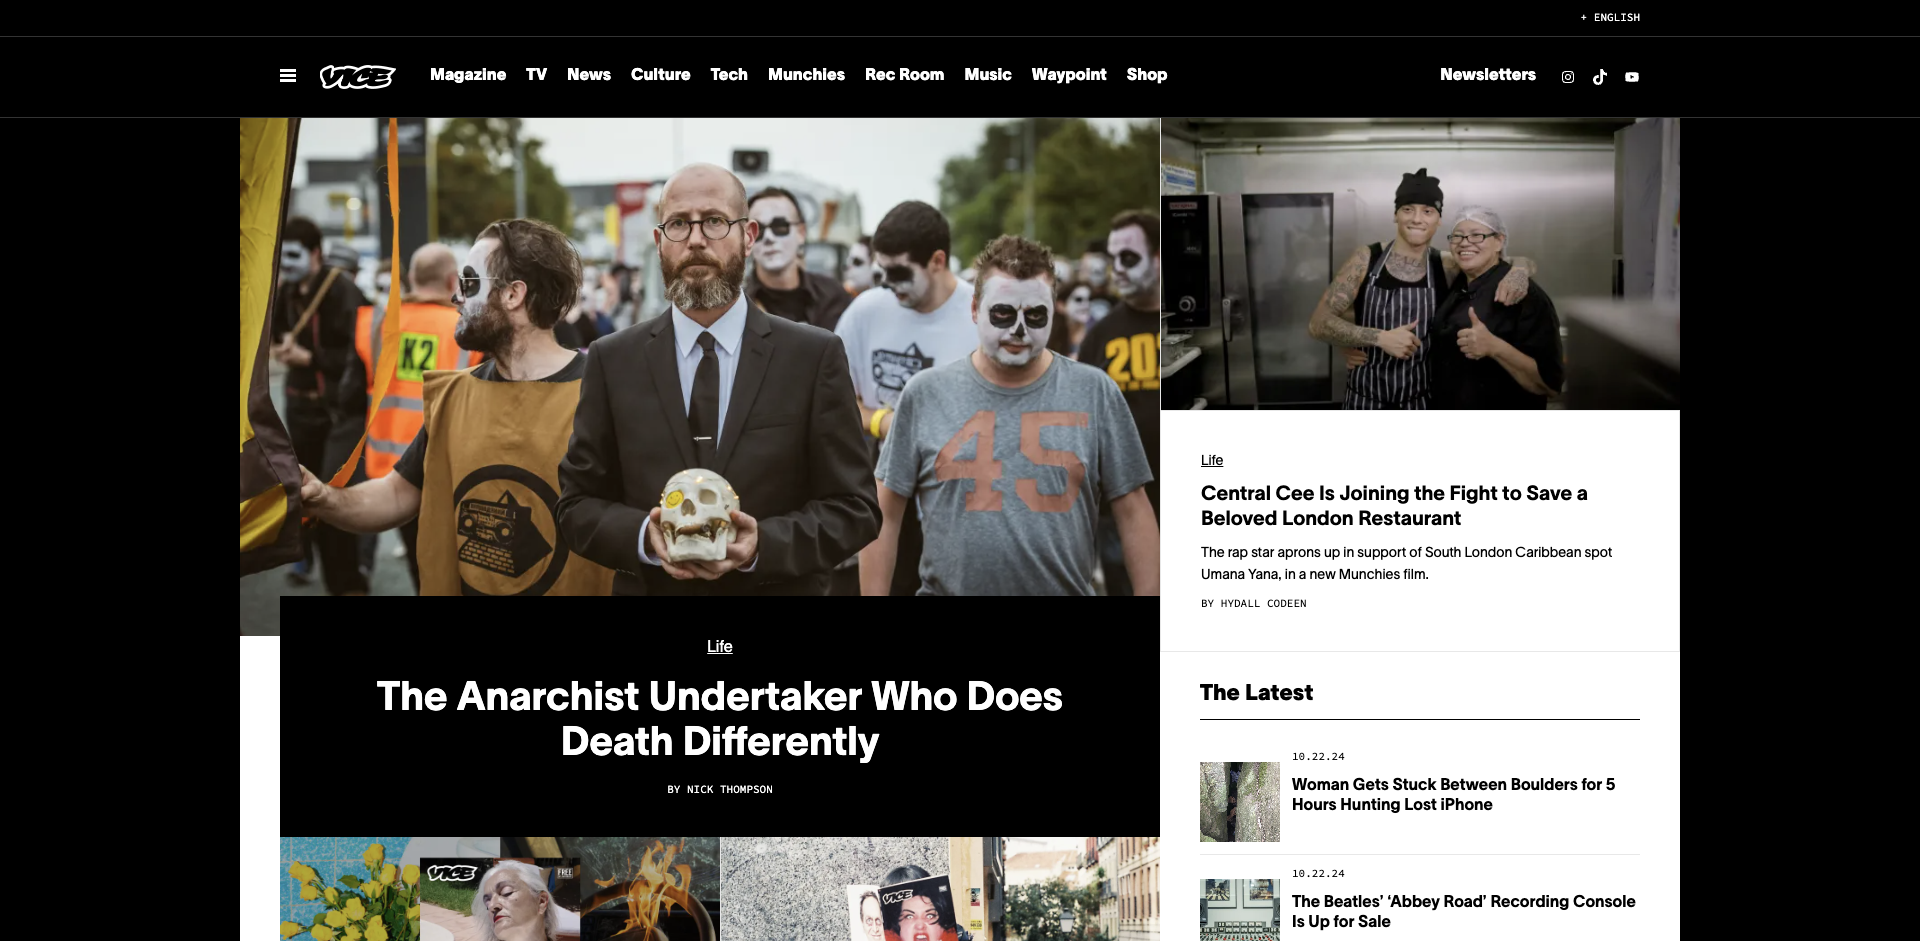button: (264, 53, 312, 100), (1581, 0, 1640, 36)
icon: (1560, 69, 1640, 85)
link: (240, 118, 1160, 636), (1161, 118, 1680, 410), (320, 676, 1120, 767), (280, 837, 720, 941), (721, 837, 1160, 941), (1201, 483, 1640, 533), (1292, 776, 1640, 816), (1292, 892, 1640, 932), (0, 202, 230, 254), (0, 304, 230, 355), (0, 406, 230, 457), (0, 457, 230, 508), (0, 559, 230, 610), (0, 610, 230, 662), (0, 712, 230, 763), (0, 763, 230, 815), (0, 865, 230, 916), (0, 254, 230, 304), (0, 355, 230, 406), (0, 508, 230, 559), (0, 662, 230, 712), (0, 815, 230, 865), (1200, 762, 1280, 842), (0, 916, 230, 941), (1200, 879, 1280, 941), (855, 59, 954, 93), (420, 59, 517, 93), (758, 59, 855, 93), (1022, 59, 1117, 93), (621, 59, 700, 93), (954, 59, 1022, 93), (557, 59, 621, 93), (1117, 59, 1178, 93), (700, 59, 758, 93), (320, 65, 396, 89), (517, 59, 557, 93), (1440, 70, 1536, 83), (687, 782, 773, 795), (1221, 597, 1307, 610), (708, 641, 732, 654), (1201, 455, 1223, 468), (1560, 69, 1576, 85), (1592, 69, 1608, 85), (1624, 69, 1640, 85)
menu_item: (855, 65, 954, 89), (420, 65, 517, 89), (758, 65, 855, 89), (1022, 65, 1117, 89), (621, 65, 700, 89), (954, 65, 1022, 89), (557, 65, 621, 89), (1117, 65, 1178, 89), (700, 65, 758, 89), (517, 65, 557, 89)
